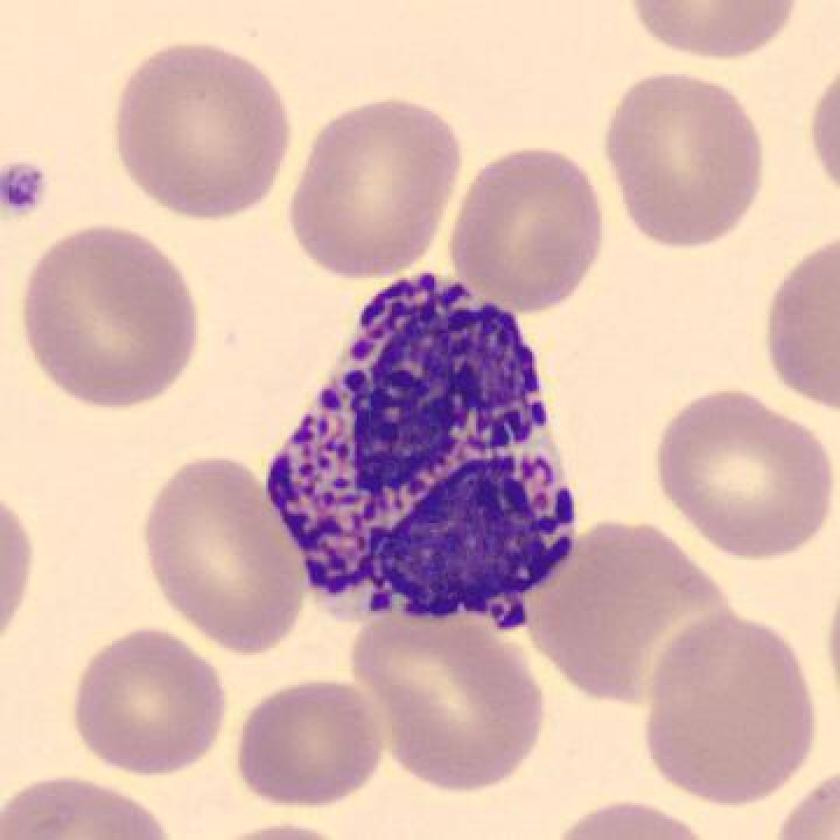basophil: (267, 272, 587, 628)
